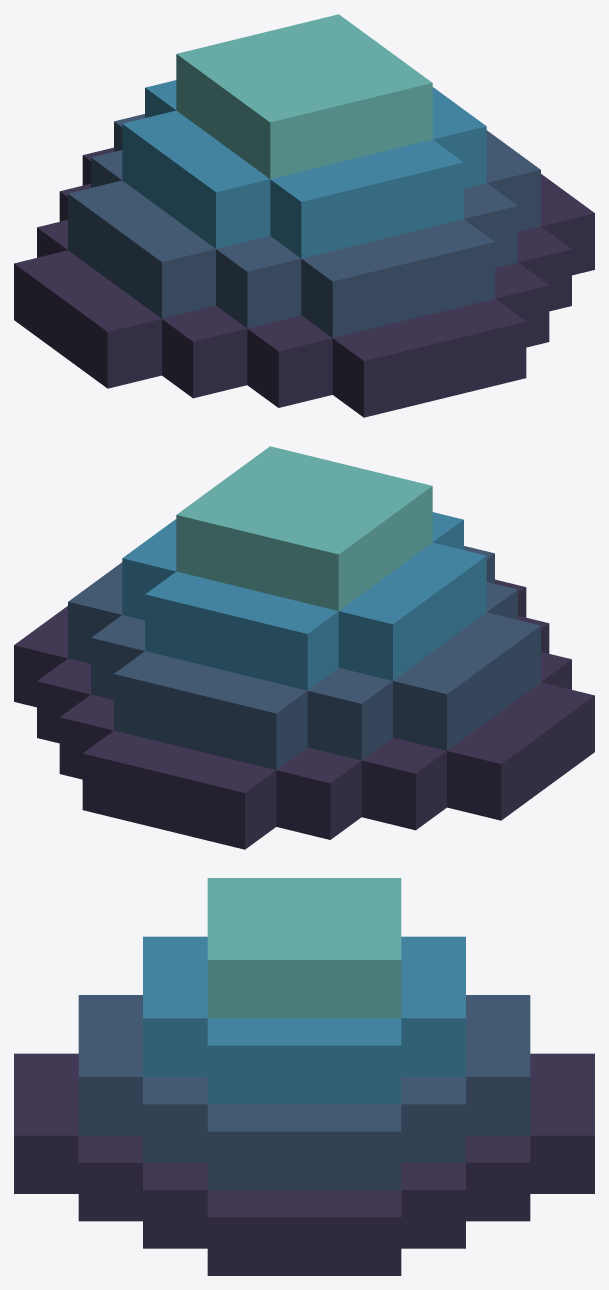
File: teleport.obj
3 views of the same model, one above another, from view 1: azimuth 30°, elevation 25°; view 2: azimuth 150°, elevation 25°; view 3: azimuth 270°, elevation 25° (orthographic). The views are drawn at different scales.
Size of the model in its own units: 9 by 4 by 9.
Materials: 1 (1 with a texture image).
